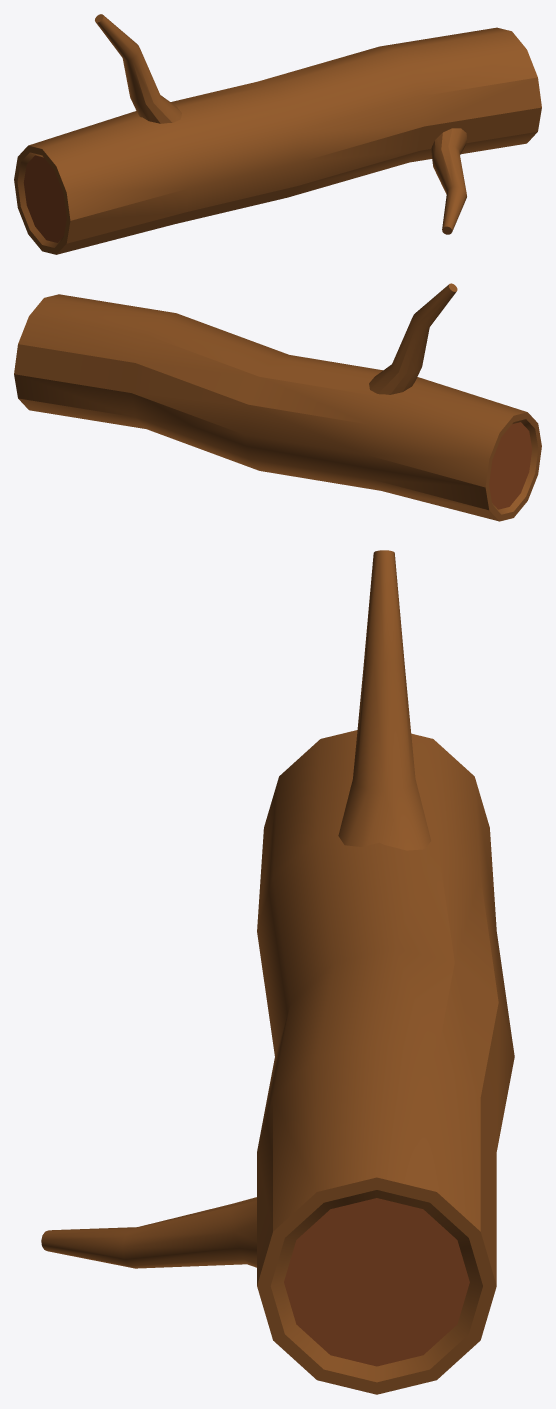
The model's file is log.glb.
3 views of the same model, one above another, from view 1: azimuth 30°, elevation 25°; view 2: azimuth 150°, elevation 25°; view 3: azimuth 270°, elevation 25° (orthographic). The views are drawn at different scales.
Parts seen in each view (by area): view 1: SM_Log; view 2: SM_Log; view 3: SM_Log.
Boxes of the visible parts, bbox=[...] form: SM_Log: bbox=[14, 14, 541, 254]; SM_Log: bbox=[14, 283, 541, 521]; SM_Log: bbox=[41, 550, 514, 1394].
Bounding box in the file's own units: 4.52 × 2.06 × 1.97.
